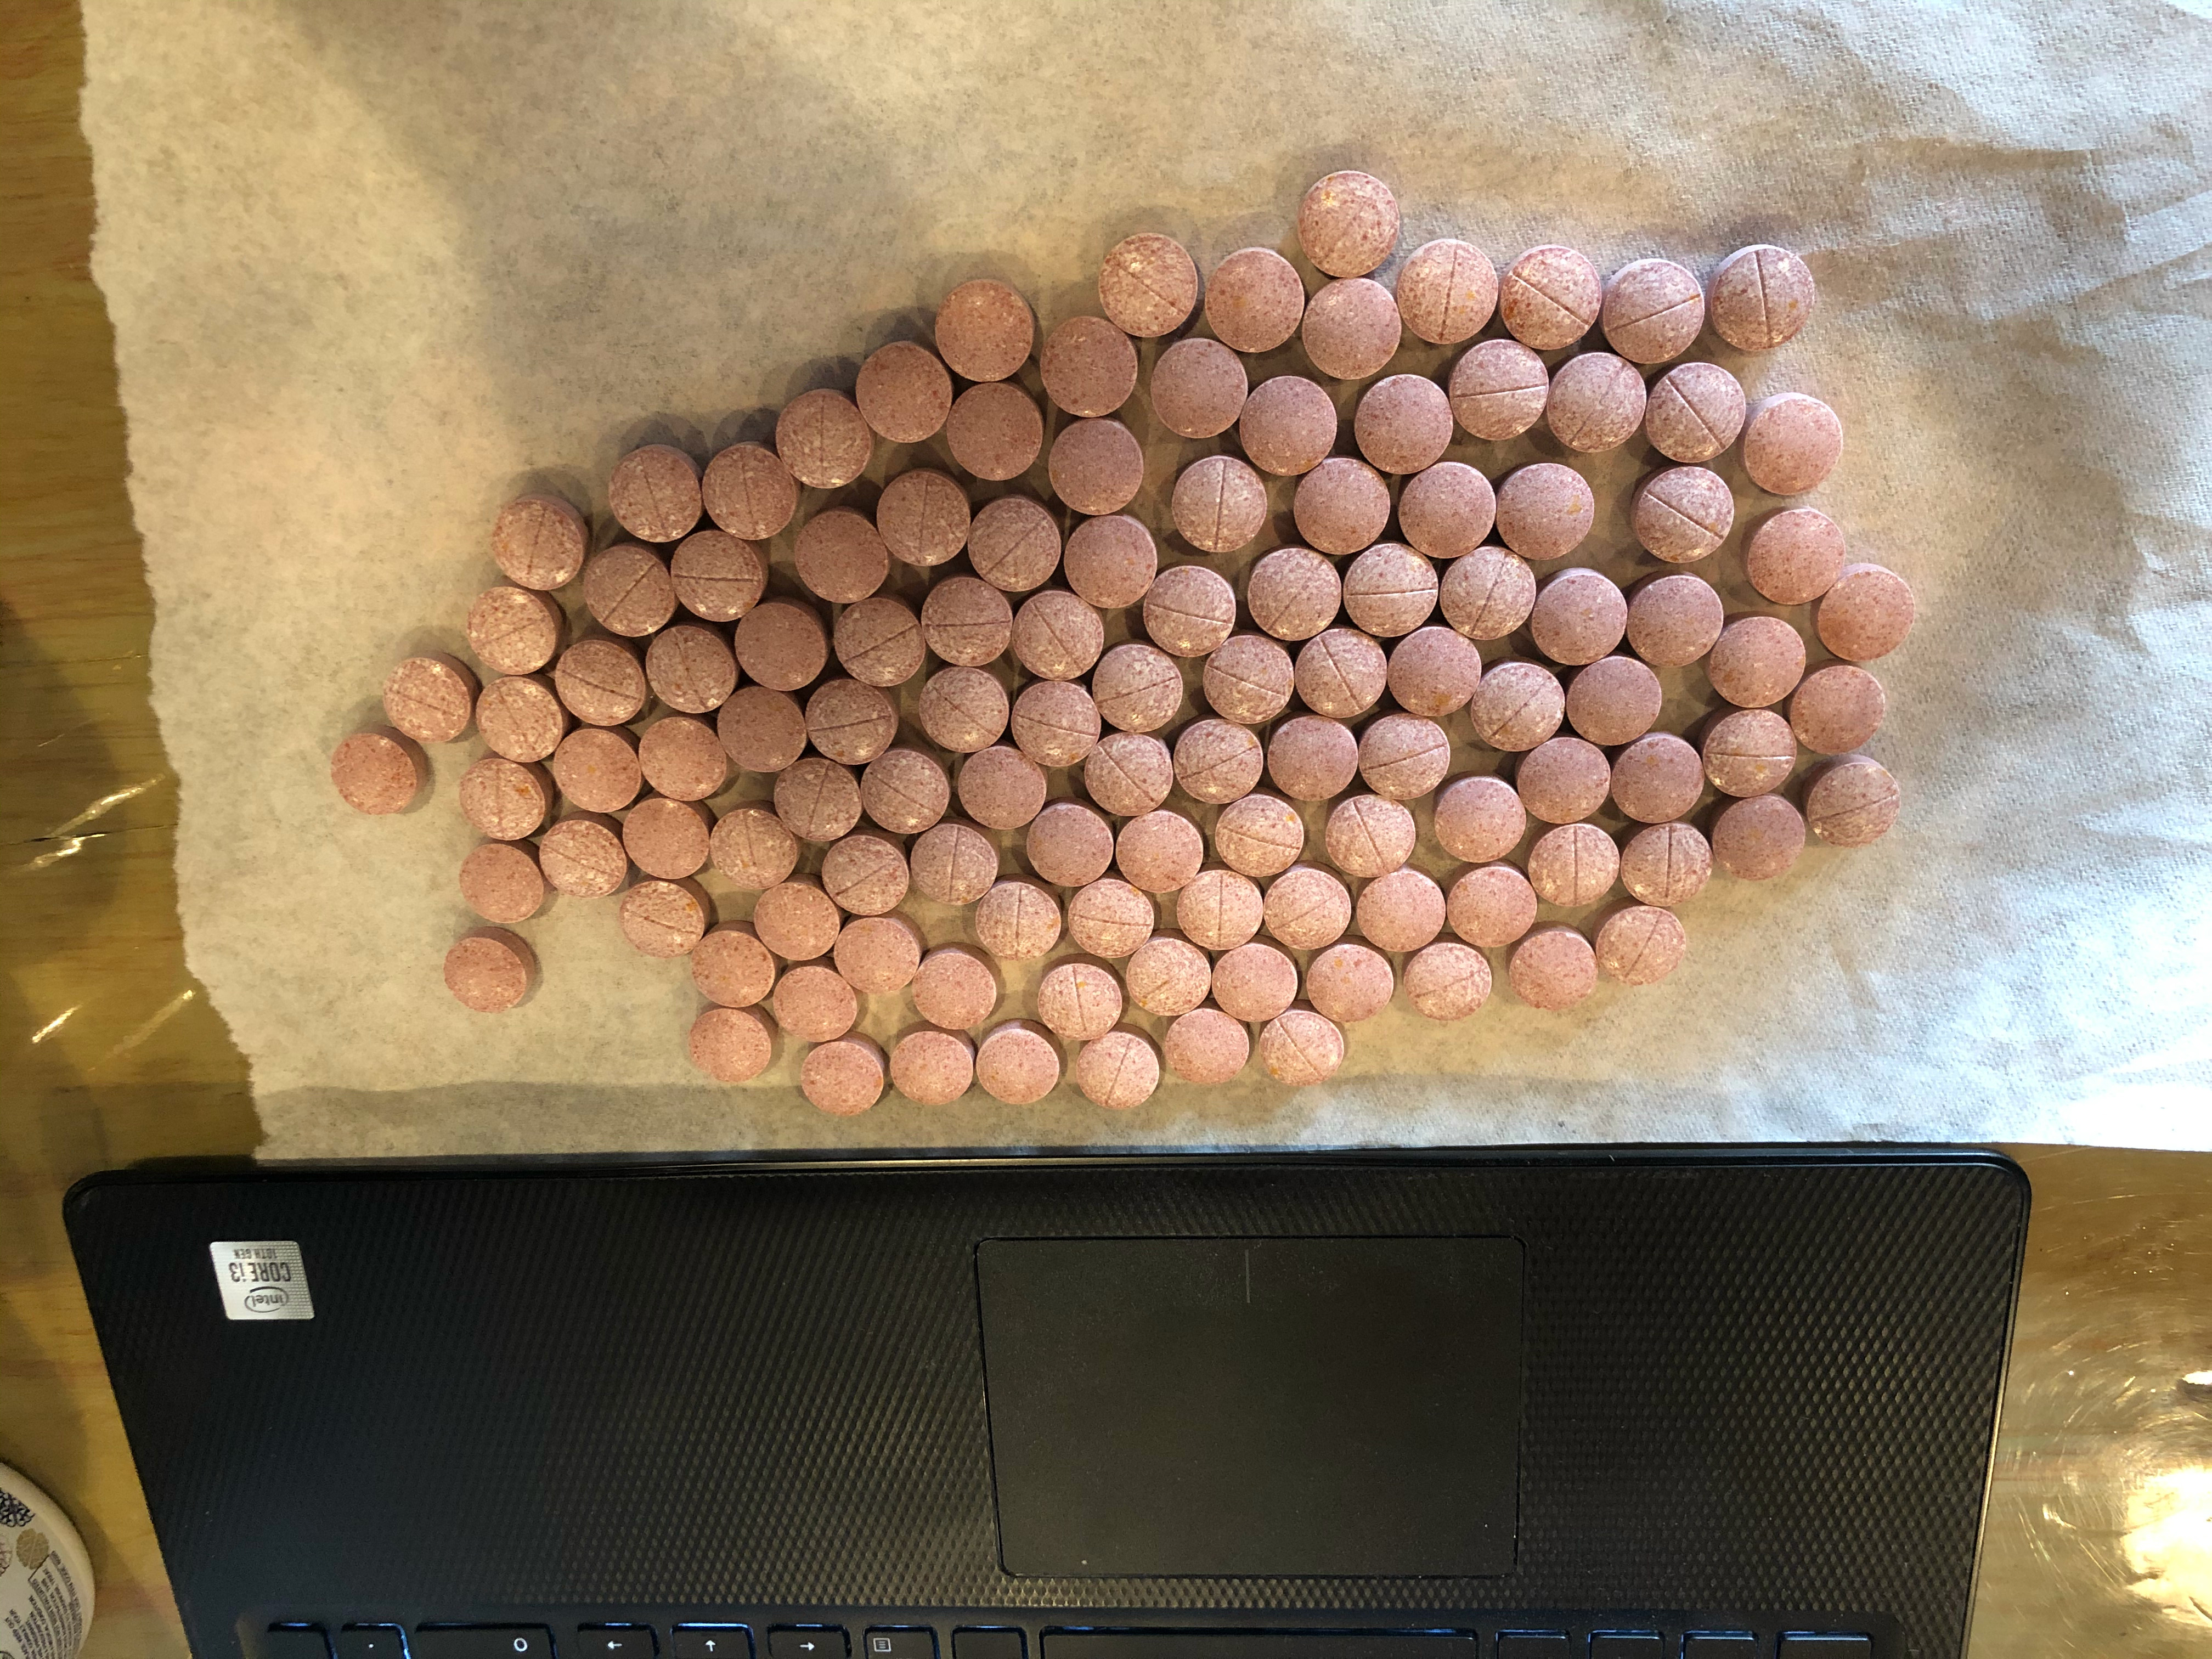tablet: (1393, 237, 1503, 349), (1294, 166, 1402, 279), (1707, 244, 1817, 354), (1094, 228, 1200, 340), (1036, 312, 1141, 425), (1813, 561, 1923, 667), (1489, 460, 1601, 565), (1743, 389, 1848, 500), (1500, 242, 1602, 356), (772, 383, 878, 491), (1447, 336, 1554, 444), (1602, 256, 1709, 364), (1641, 356, 1747, 464), (932, 274, 1036, 382), (1620, 568, 1728, 673), (852, 335, 954, 444), (1204, 246, 1306, 356), (1625, 469, 1738, 568), (1543, 350, 1648, 457), (1148, 333, 1249, 443), (1303, 272, 1404, 382), (697, 437, 801, 542), (1238, 369, 1341, 476), (486, 490, 589, 594), (941, 382, 1045, 484), (1042, 415, 1144, 519), (1353, 373, 1456, 477), (1703, 612, 1808, 714), (1395, 460, 1498, 563), (1435, 542, 1538, 645), (1287, 457, 1393, 556), (1738, 505, 1846, 603), (669, 525, 772, 626), (961, 491, 1064, 592), (1169, 451, 1268, 556), (829, 592, 930, 694), (1339, 538, 1440, 640), (874, 465, 974, 568), (1291, 622, 1390, 725), (1804, 756, 1907, 856), (580, 540, 679, 641), (791, 504, 892, 603), (1007, 587, 1108, 687), (1059, 512, 1158, 613), (1529, 568, 1629, 669), (604, 443, 704, 542), (730, 594, 827, 695), (1245, 542, 1343, 643), (916, 575, 1019, 671), (554, 633, 651, 732), (1789, 660, 1888, 758), (639, 620, 740, 716), (801, 674, 900, 770), (378, 653, 481, 746), (462, 586, 564, 678), (331, 727, 435, 817), (1472, 659, 1568, 756), (1698, 704, 1797, 798), (1019, 802, 1120, 894), (1709, 793, 1810, 885), (1007, 676, 1103, 772), (1200, 631, 1296, 727), (1261, 863, 1355, 960), (1432, 774, 1529, 868), (772, 755, 871, 847), (472, 673, 568, 767), (857, 744, 953, 838), (1092, 641, 1184, 739), (1357, 708, 1454, 800), (1620, 817, 1717, 910), (441, 927, 542, 1016), (1383, 627, 1484, 716), (1564, 657, 1665, 746), (1266, 711, 1360, 805), (550, 725, 646, 817), (637, 711, 733, 803), (707, 802, 803, 894), (712, 683, 808, 775), (916, 664, 1012, 756), (1169, 716, 1264, 809), (1510, 922, 1602, 1018), (620, 793, 718, 884), (458, 756, 559, 843), (1141, 563, 1233, 657), (1216, 789, 1308, 884), (540, 810, 631, 906), (1353, 866, 1449, 957), (1524, 819, 1620, 910), (1592, 901, 1688, 992), (953, 746, 1050, 835), (1609, 730, 1707, 819), (1082, 732, 1176, 823), (972, 1021, 1068, 1110), (817, 831, 913, 920), (1444, 863, 1540, 951), (1514, 735, 1609, 824), (1324, 791, 1418, 880), (455, 840, 550, 927), (909, 943, 1000, 1033), (970, 875, 1062, 964), (690, 918, 777, 1012), (1073, 1026, 1167, 1114), (1172, 870, 1266, 957), (1111, 809, 1207, 894), (615, 877, 714, 958), (1061, 880, 1160, 962), (909, 824, 1001, 911), (1305, 938, 1397, 1025), (831, 913, 925, 999), (749, 880, 845, 964), (1209, 939, 1299, 1026), (1258, 1009, 1350, 1094), (685, 1002, 780, 1084), (1399, 939, 1494, 1021), (890, 1021, 977, 1110), (1123, 936, 1212, 1021), (770, 958, 860, 1042), (798, 1037, 887, 1121), (1035, 958, 1123, 1042), (1160, 1007, 1254, 1086)
